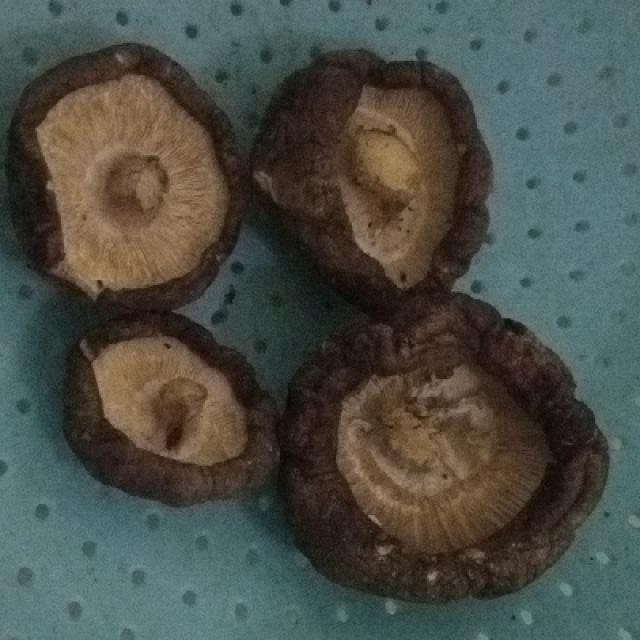Lentinus edodes: (277, 293, 614, 598), (0, 43, 252, 315), (245, 48, 493, 317), (73, 313, 277, 489)
